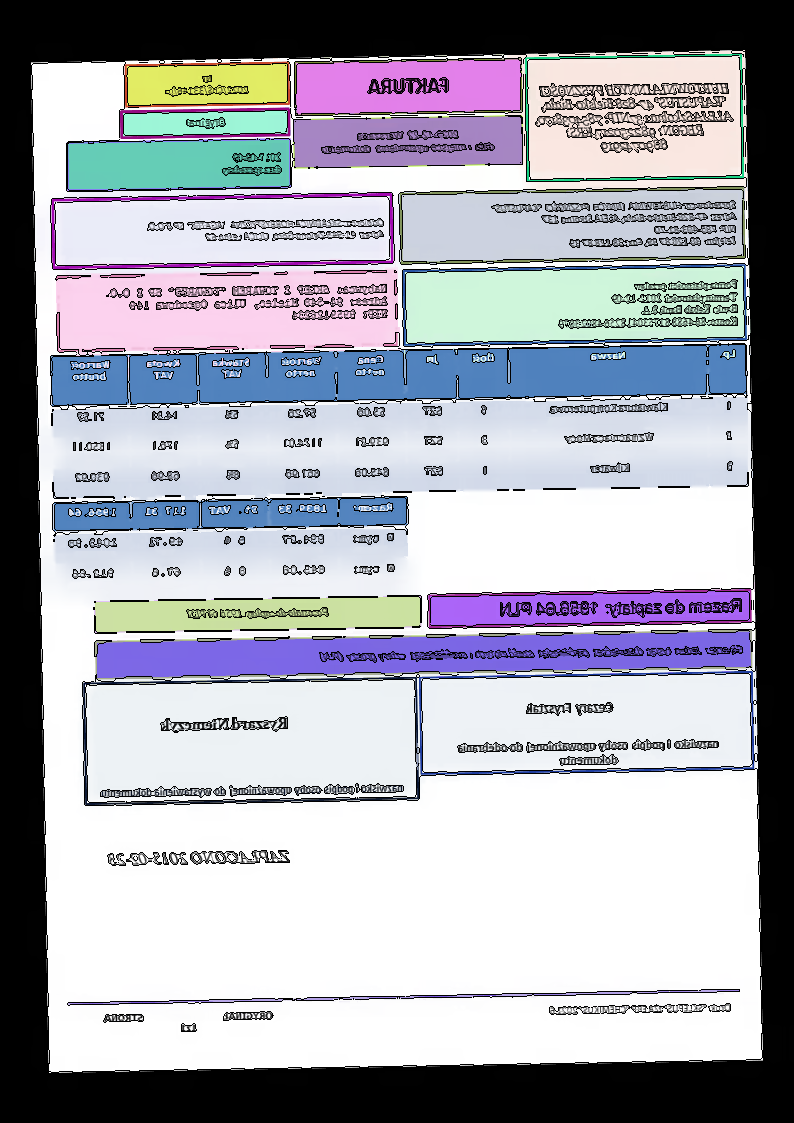Table: (50, 342, 750, 500), (51, 496, 410, 594)
TextBox: (532, 80, 736, 156), (490, 199, 739, 252), (102, 281, 390, 325), (555, 277, 739, 331), (318, 642, 745, 665), (455, 736, 723, 767), (145, 214, 387, 244), (498, 595, 745, 621), (99, 781, 406, 801), (319, 127, 495, 156), (102, 1009, 277, 1036), (106, 847, 292, 868), (548, 1002, 733, 1017), (159, 713, 289, 734), (184, 605, 331, 621), (163, 72, 250, 99), (366, 75, 451, 97), (221, 150, 284, 177), (525, 699, 614, 716), (184, 115, 227, 130)
